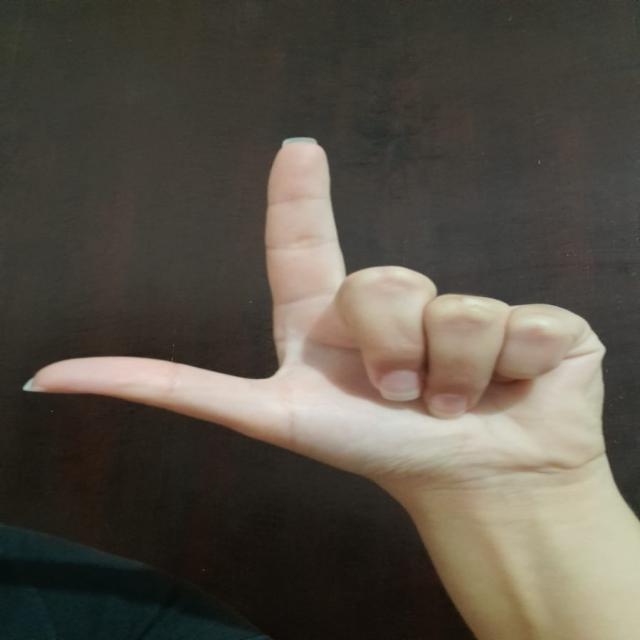L: (18, 126, 626, 478)
